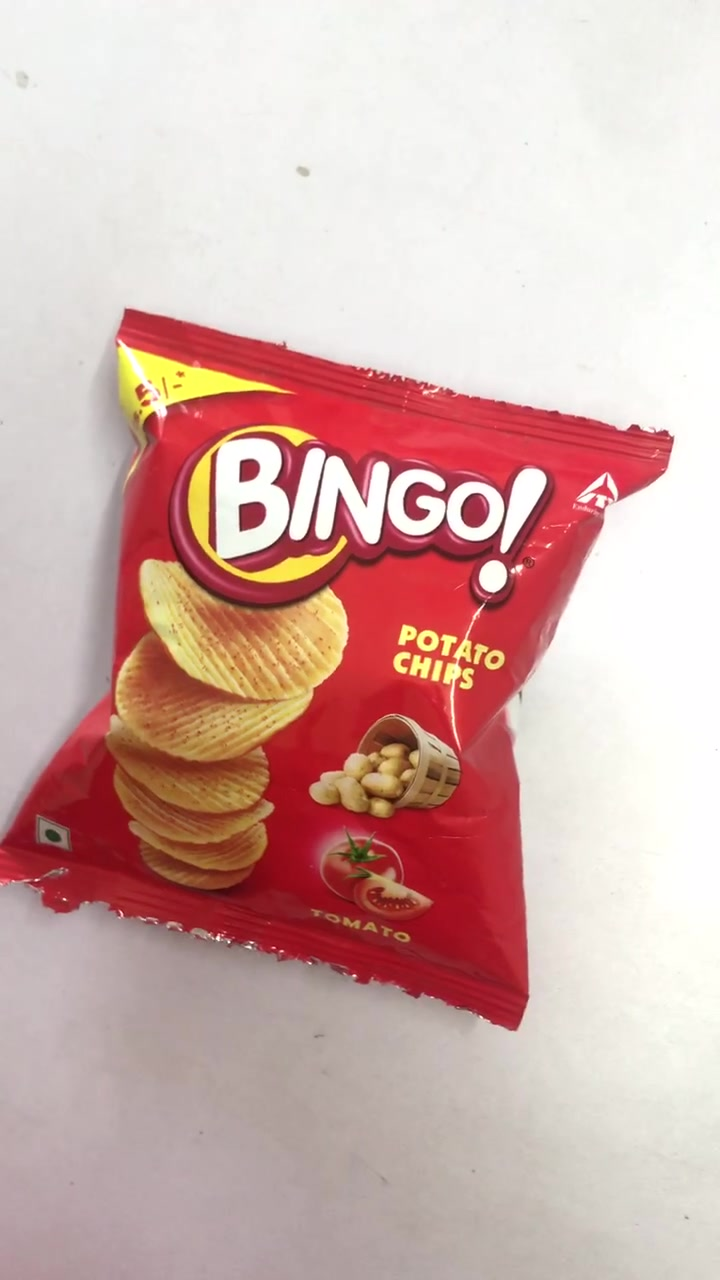Bingo: (9, 307, 673, 1028)
